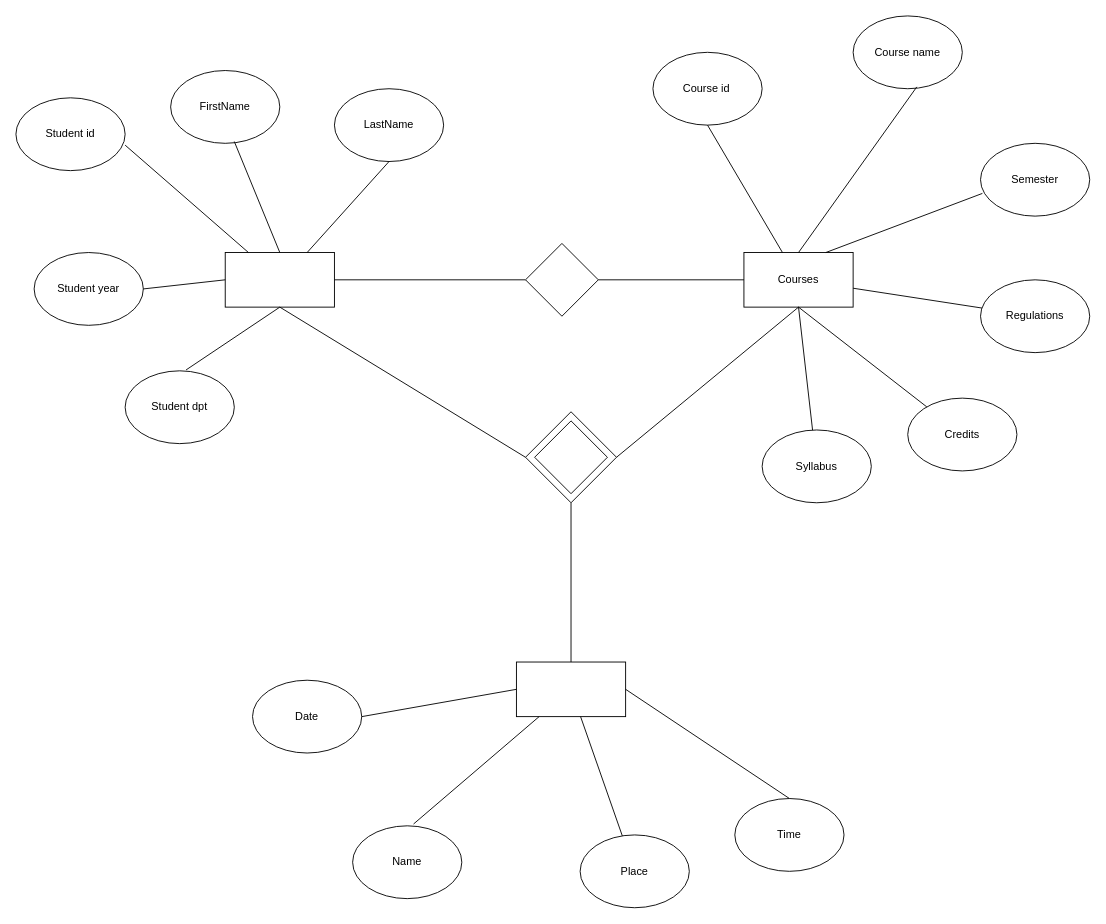
The diagram is 1106 pixels wide and 924 high, and some of its shapes have lost their labels. Each missing label, with the centre of its shape:
"enrolls" belongs at point 561,279.
"Exams" belongs at point 571,689.
"Student" belongs at point 279,279.
"Takes" belongs at point 570,457.
